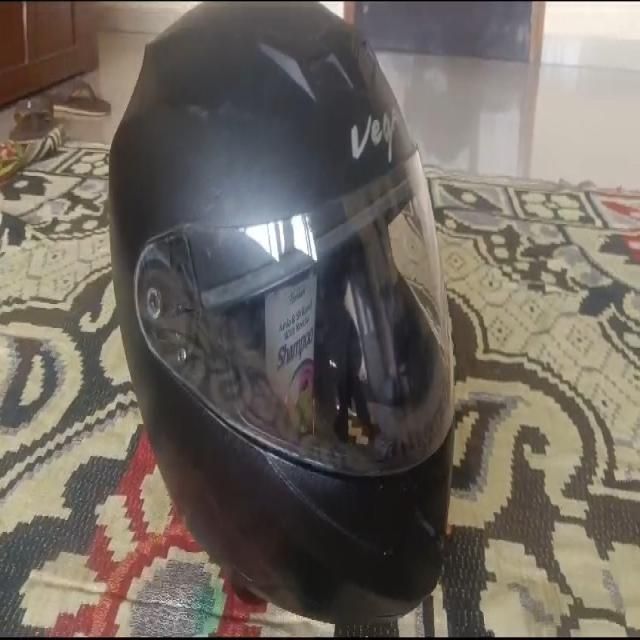Helmet: (108, 5, 456, 633)
